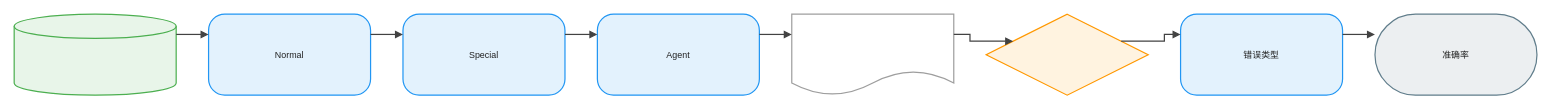
The diagram is 1552 pixels wide and 110 high, and some of its shapes have lost their labels. The shapes that lost their labels are listed below. From the top down, each one's centre as x and y in pixels, then its label:
At [94,54]: "工具场景".
At [872,54]: "函数调用".
At [1066,54]: "规则评测".
